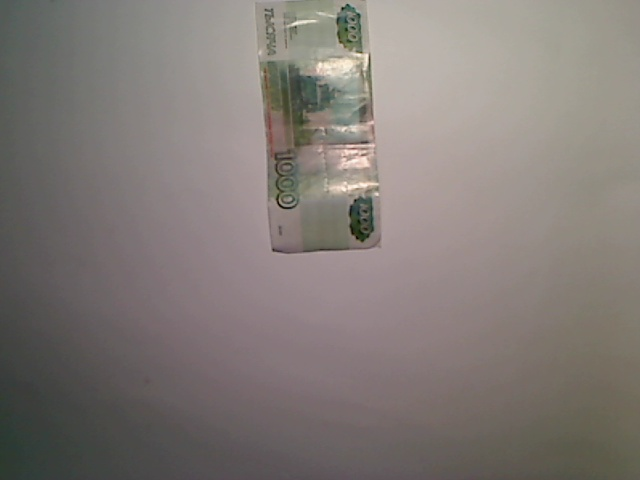banknotes: (244, 1, 389, 259)
